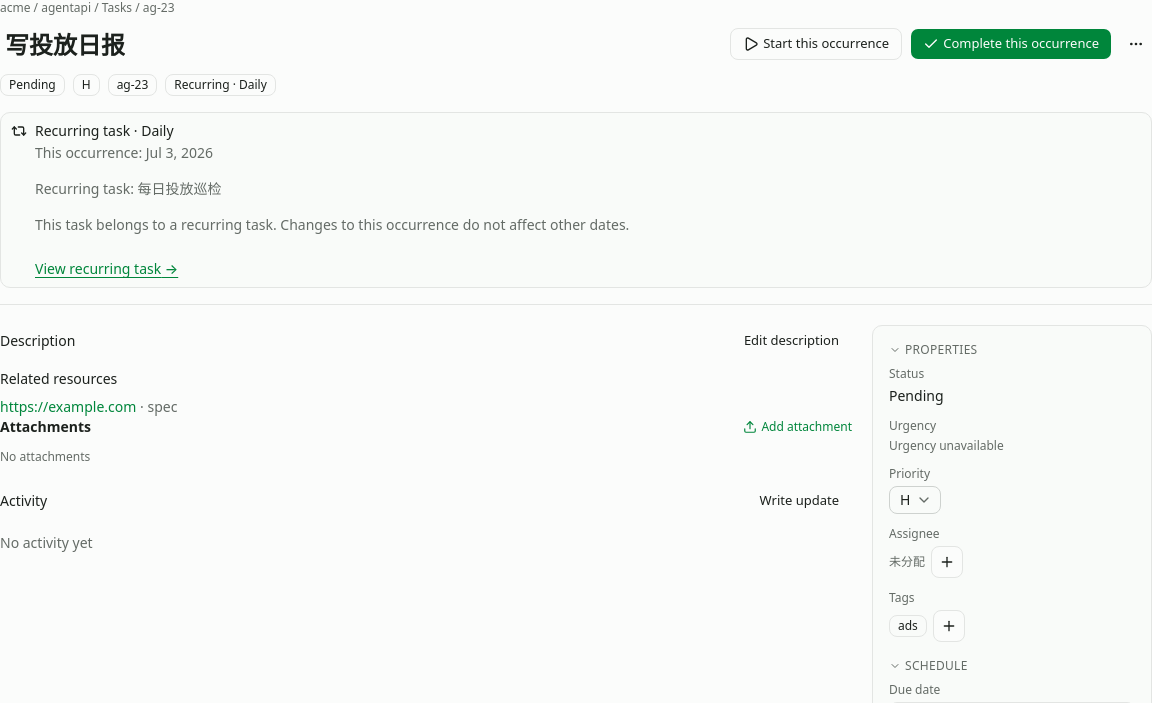
Scenario: TaskDetailPage › localizes the occurrence banner and occurrence actions in English
The image size is (1152, 703).
Check: the text "Recurring task · Daily" is shown, box x1=35 y1=121 x2=174 y2=140
Check: the text "Recurring task: 每日投放巡检" is shown, box x1=35 y1=179 x2=222 y2=198
Click the button named "More actions ag-23" at (1136, 44), box x1=1120 y1=28 x2=1151 y2=60
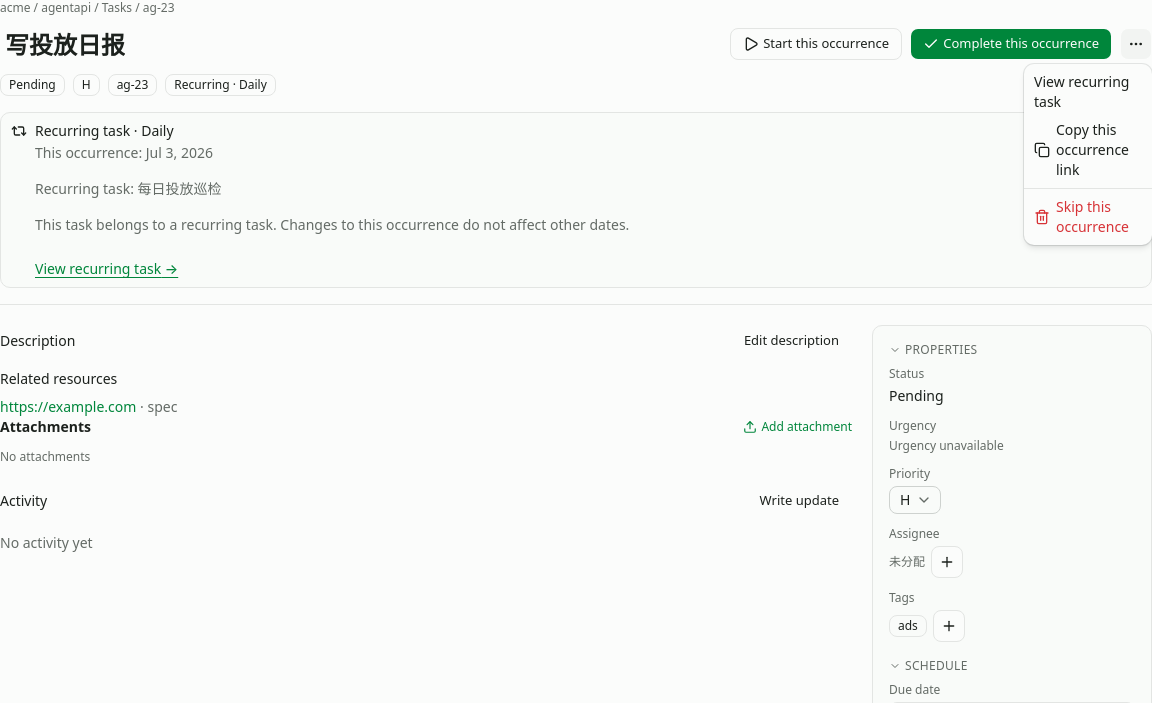
Click the menu item "Skip this occurrence" at (1082, 216), box x1=1034 y1=197 x2=1129 y2=236
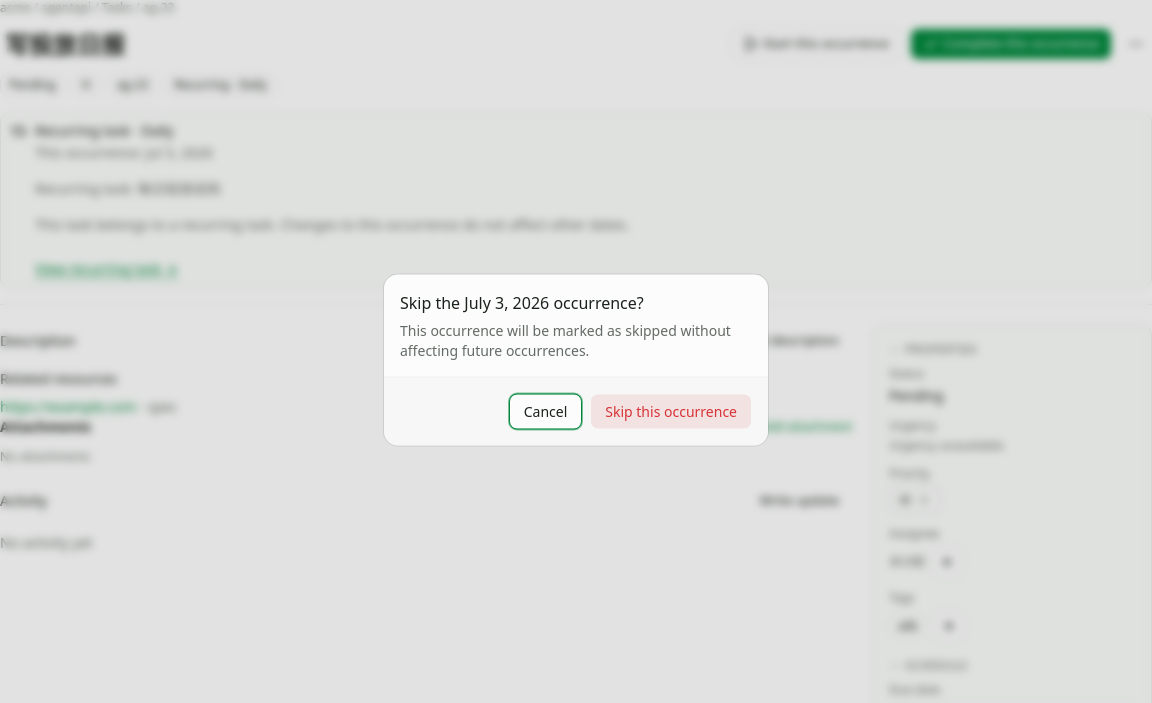
Check: the heading "Skip the July 3, 2026 occurrence?" is shown, box x1=400 y1=290 x2=644 y2=314
Check: the text "This occurrence will be marked as skipped without affecting future occurrences." is shown, box x1=400 y1=320 x2=752 y2=360
Click the button "Skip this occurrence" at (671, 412), box x1=590 y1=394 x2=752 y2=430
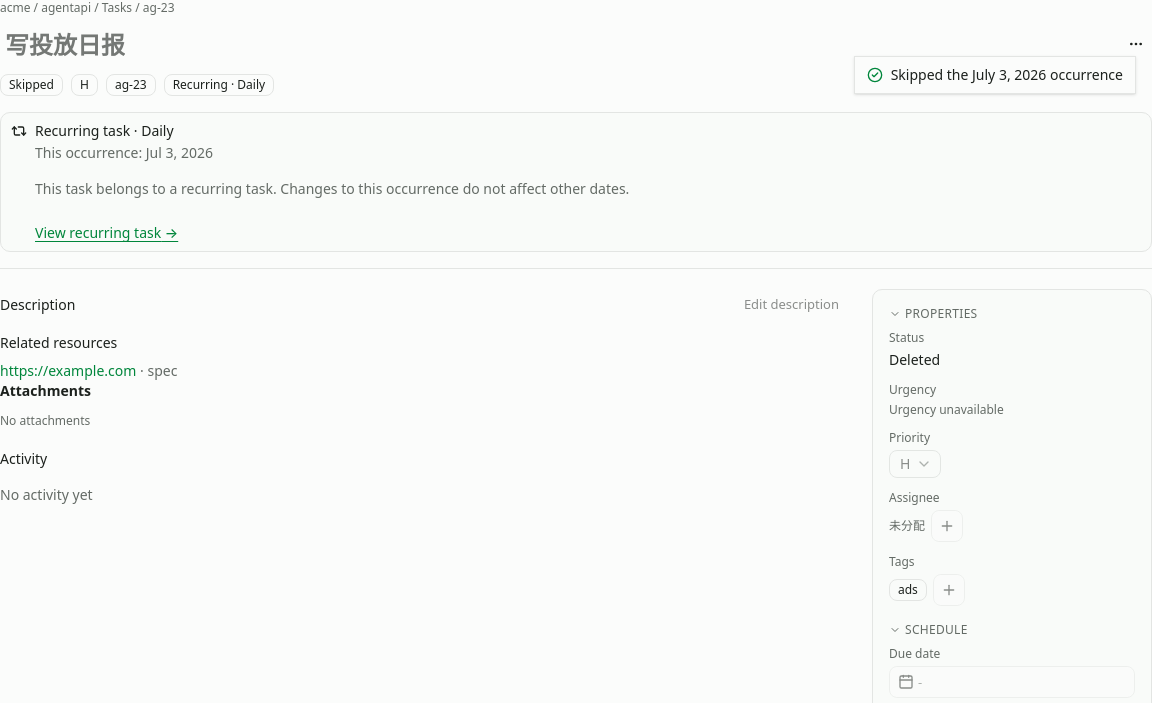
Check: the message "Skipped the July 3, 2026 occurrence" is shown, box x1=854 y1=56 x2=1136 y2=94
